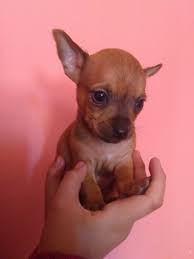chihuahua: (32, 13, 168, 219)
